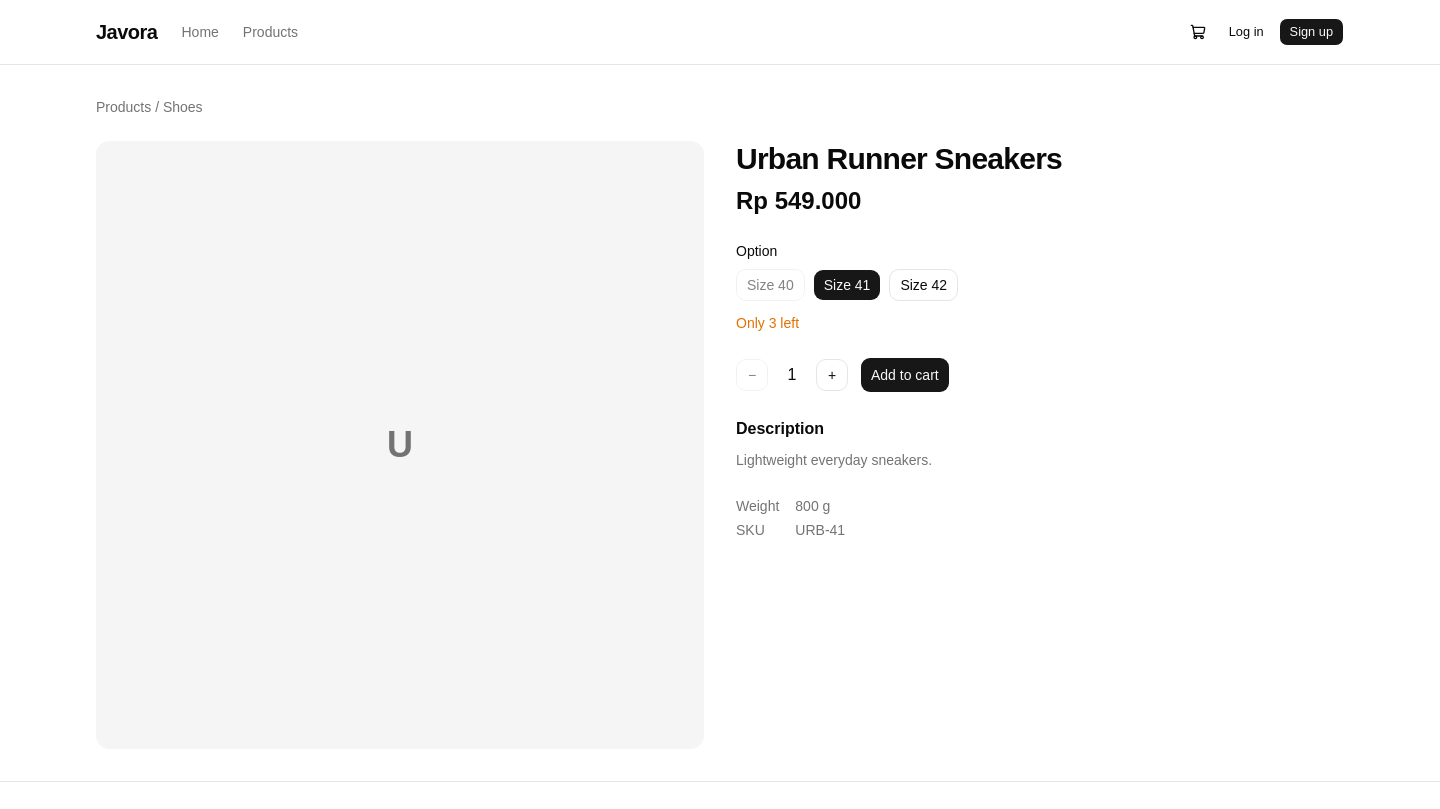
cart page as a guest › adds from the product page into the browser cart
The image size is (1440, 809).
Click the button named "Increase quantity" at point(832, 375), box [816, 359, 848, 391]
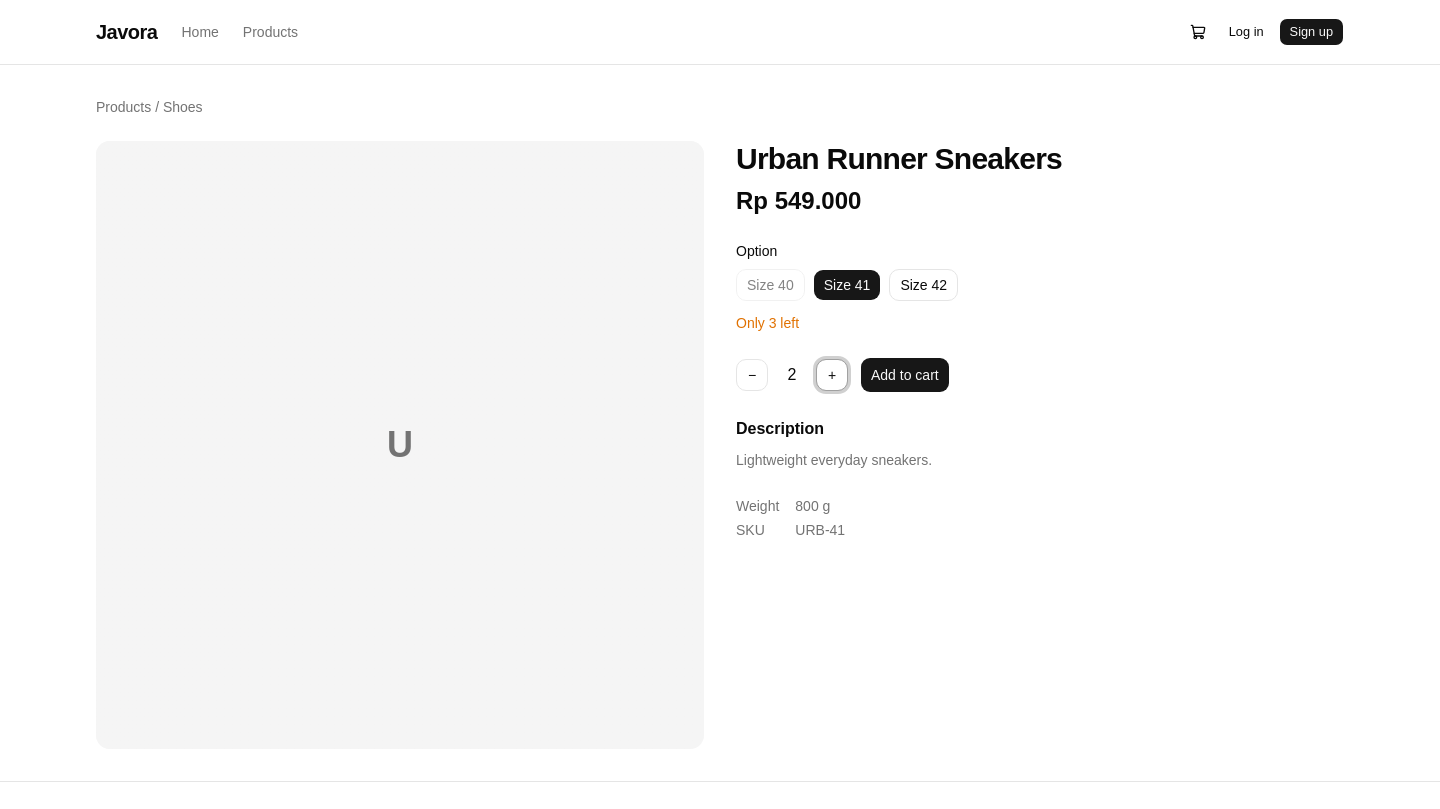
Click the button "Add to cart" at point(905, 375), box [860, 357, 950, 393]
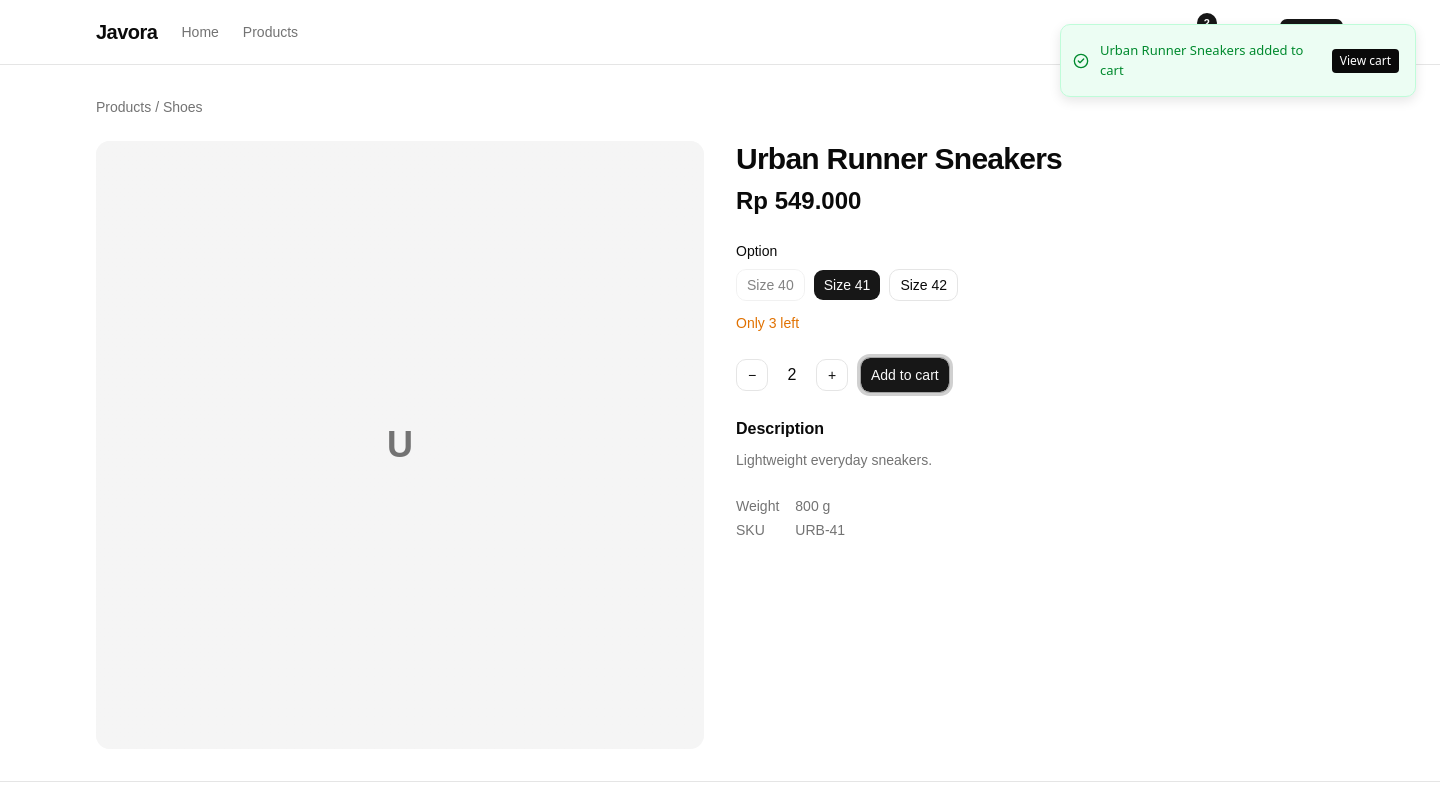
expect the link named "Cart, 2 items" is shown: met, box [1190, 13, 1217, 40]
